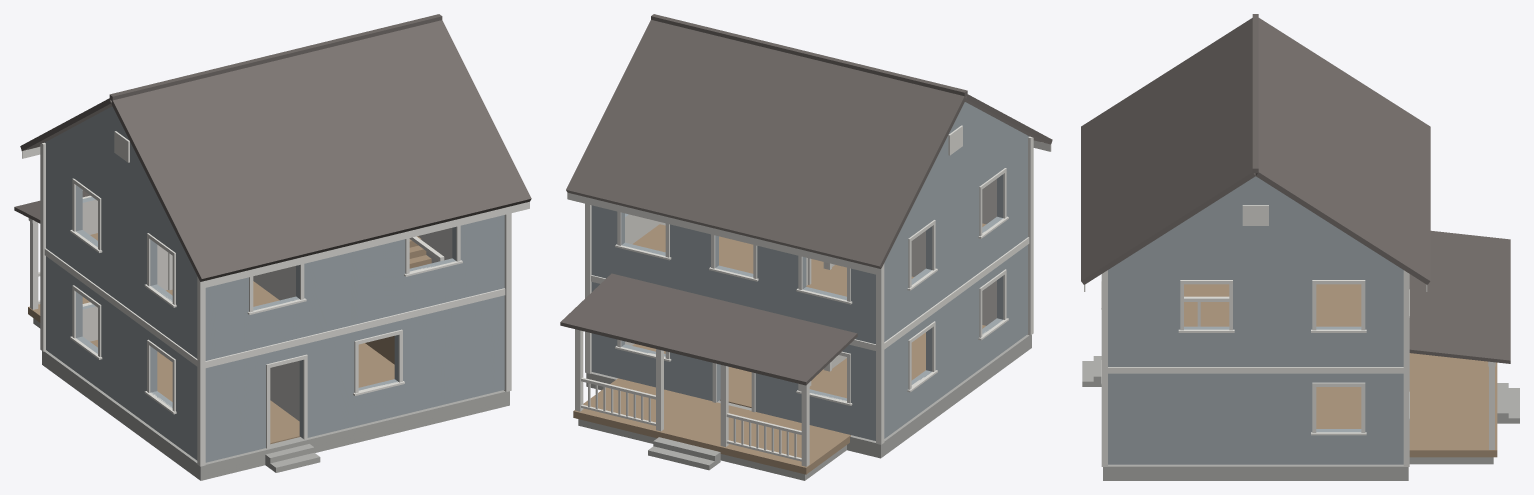
File: SM_House_A.fbx
3 renders of one model, left to right at view 1: azimuth 30°, elevation 25°; view 2: azimuth 150°, elevation 25°; view 3: azimuth 270°, elevation 25°, orthographic. The views are drawn at different scales.
Visible parts, largest first — view 1: SM_House_A; view 2: SM_House_A; view 3: SM_House_A.
Boxes of the visible parts, x1,y1,x2,y2 form: SM_House_A: (14, 14, 531, 480); SM_House_A: (560, 14, 1052, 480); SM_House_A: (1081, 14, 1519, 480).
Bounding box in the file's own units: 9.7 × 9.27 × 11.63.
